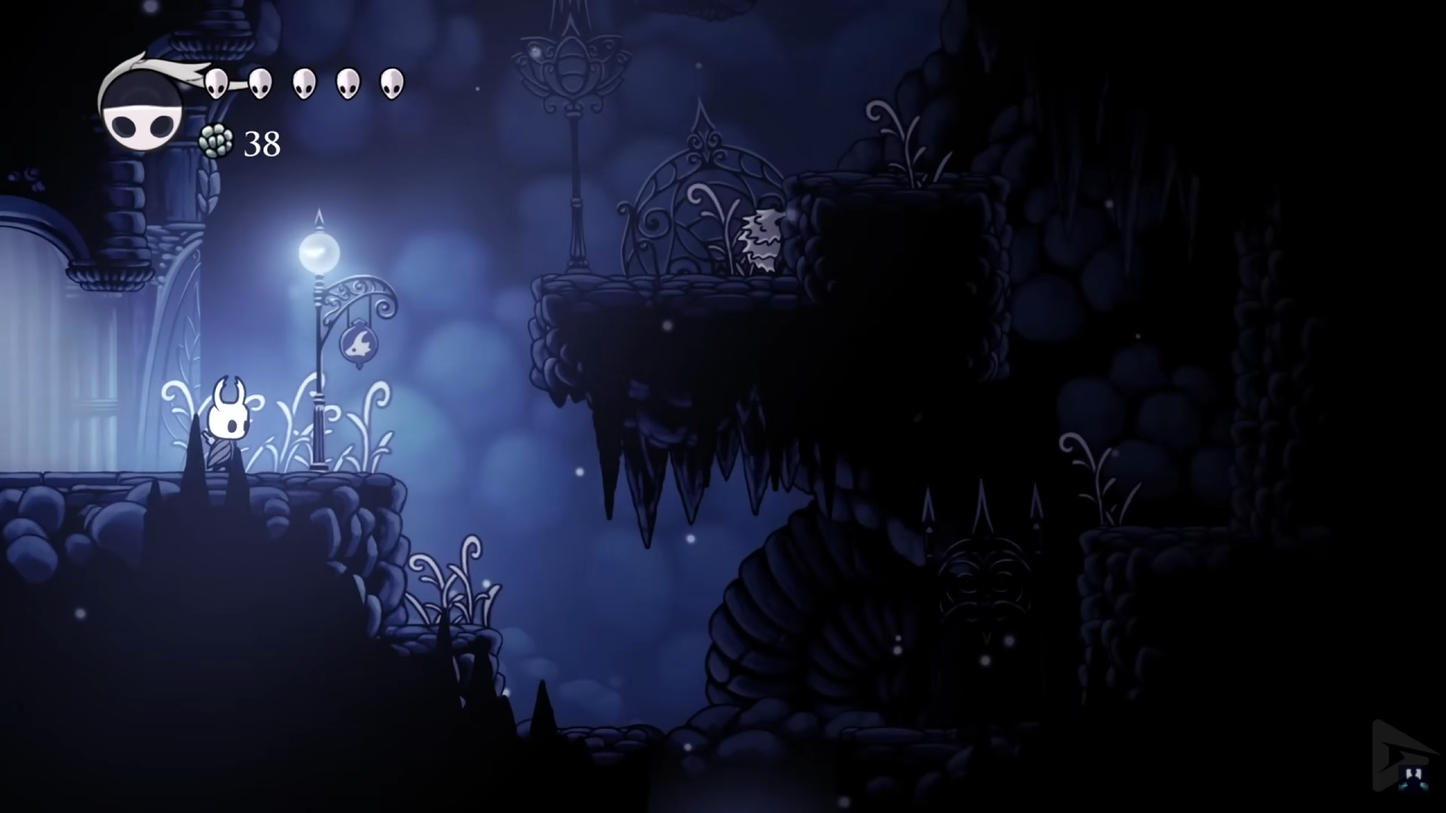HK: (194, 373, 256, 471)
